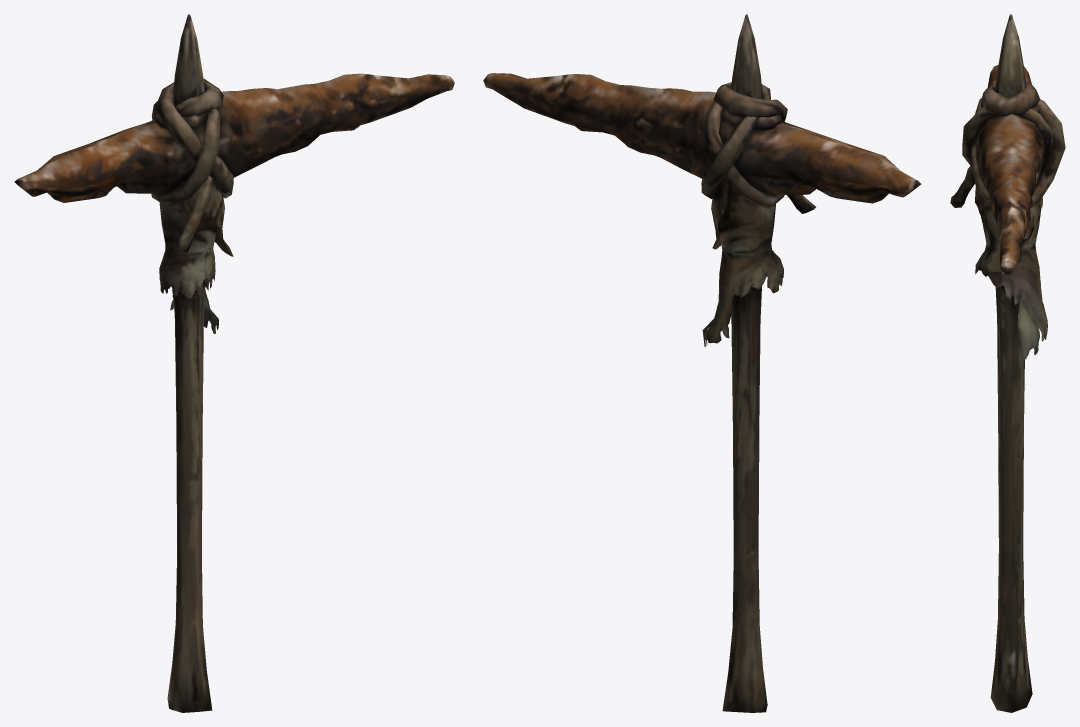
The model's file is weapon-shroudcleaver.glb.
3 views of the same model, side by side, from view 1: azimuth 30°, elevation 25°; view 2: azimuth 150°, elevation 25°; view 3: azimuth 270°, elevation 25° (orthographic).
Visible parts, largest first — view 1: prisonerNinjaAxe_MDL_q; view 2: prisonerNinjaAxe_MDL_q; view 3: prisonerNinjaAxe_MDL_q.
Part boxes in pixels (box(x1,y1,x2,y2)): prisonerNinjaAxe_MDL_q: box(14, 14, 454, 712); prisonerNinjaAxe_MDL_q: box(483, 14, 921, 712); prisonerNinjaAxe_MDL_q: box(950, 14, 1065, 712).
Bounding box in the file's own units: 0.9336 × 1.43 × 0.2167.
1 material, 1 textured.
